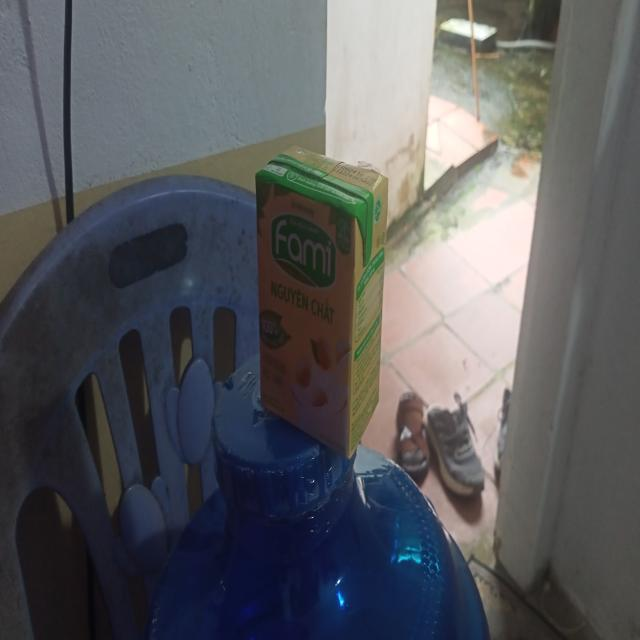Fami: (256, 154, 391, 461)
